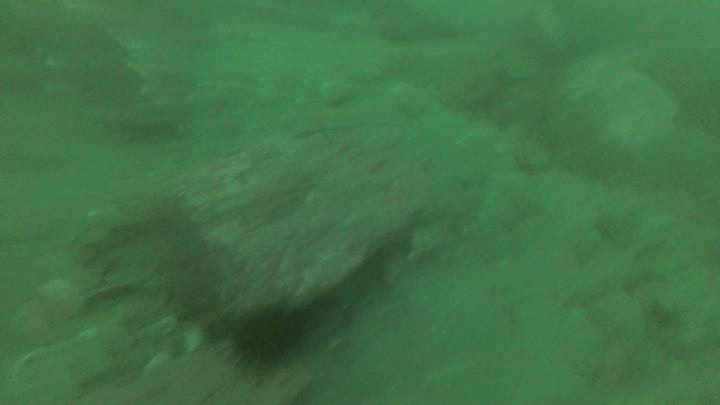echinus: (236, 317, 304, 367)
